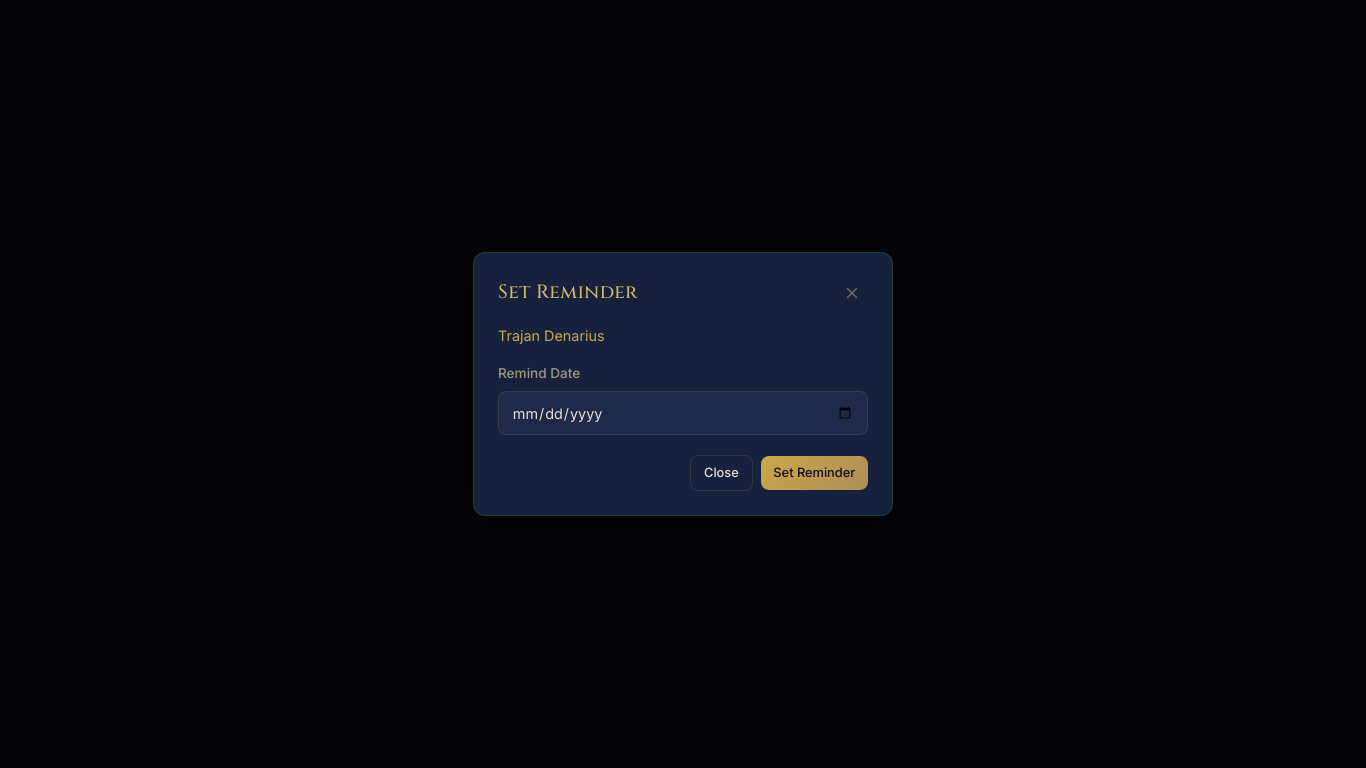
Test: PurchaseReminderModal › shows a validation error when the date is in the past
The image size is (1366, 768).
Type "2026-08-01" into the date field labelled "Remind Date" at (683, 413), box x1=498 y1=391 x2=868 y2=435
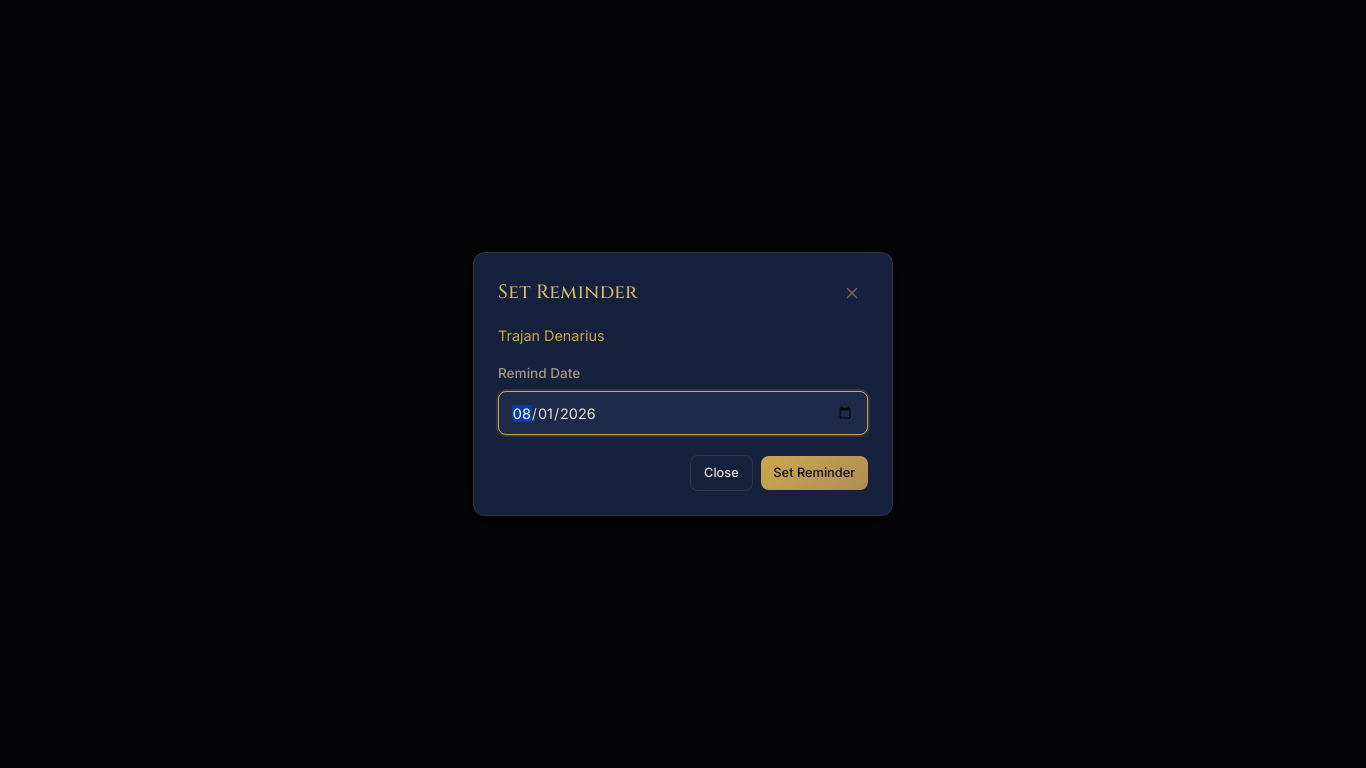
Click the button "Set Reminder" at (814, 473), box x1=760 y1=456 x2=868 y2=490
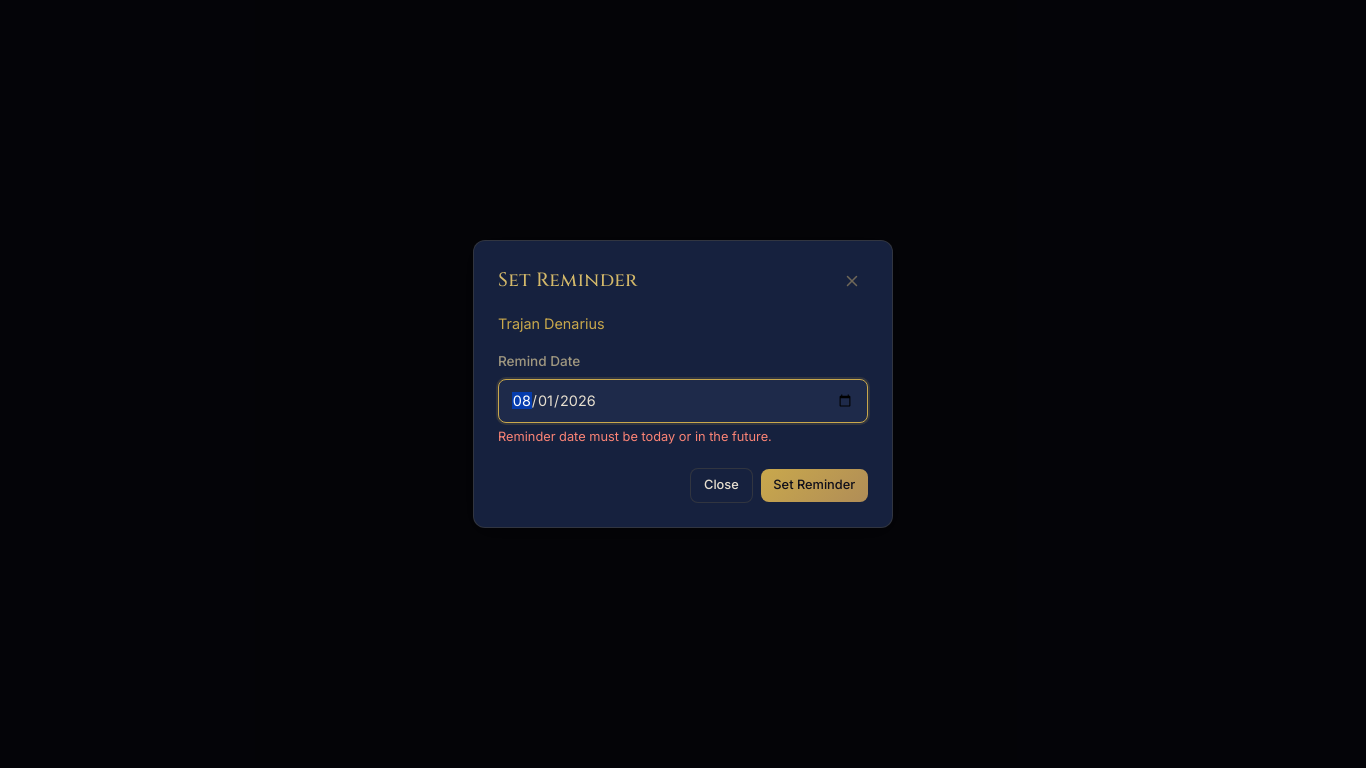
Result: the text "today or in the future" is shown at x1=498 y1=429 x2=772 y2=444
